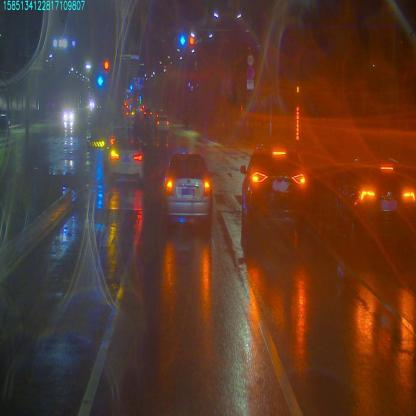traffic-light: (178, 33, 185, 46), (190, 35, 195, 46)
